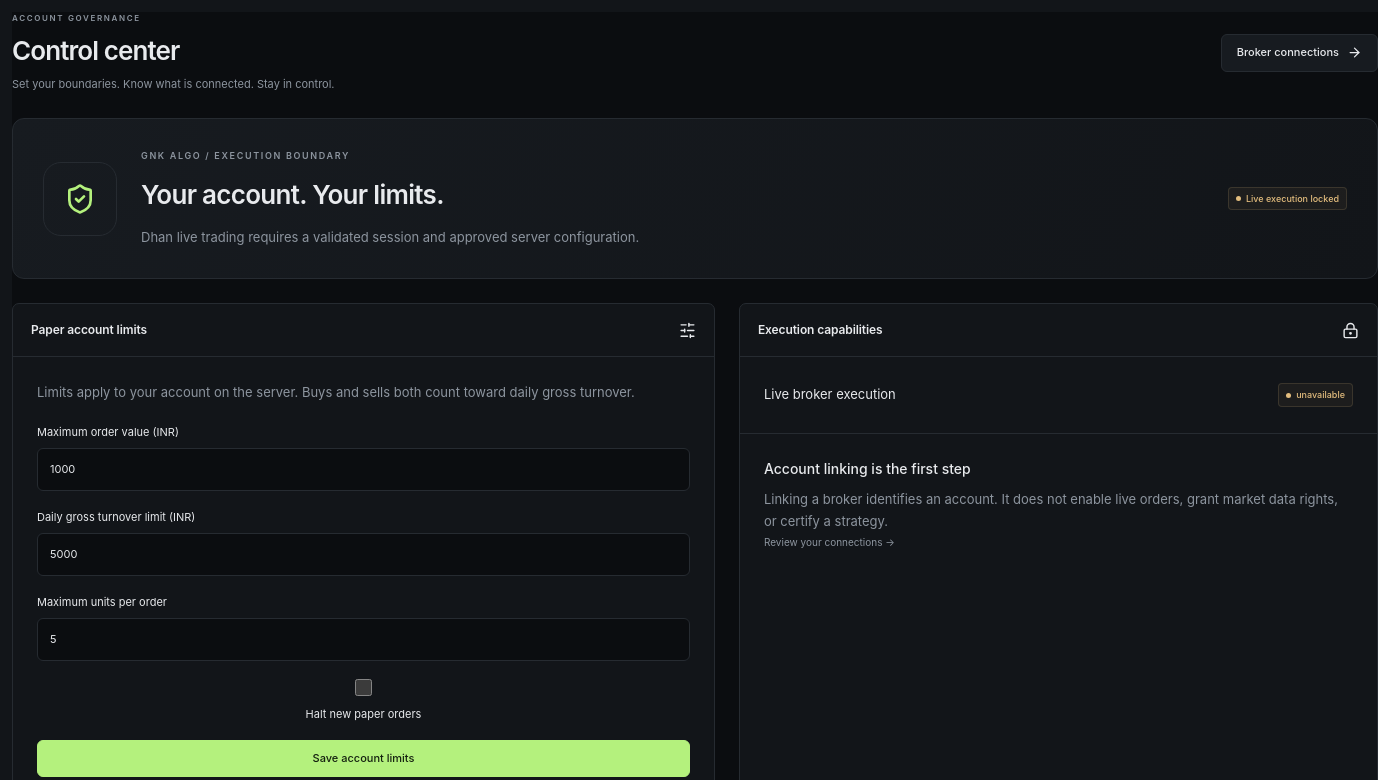
Scenario: saves only policy inputs and shows server acknowledgement
The width and height of the screenshot is (1378, 780).
Click the checkbox labelled "Halt new paper orders" at (364, 687), box left=355, top=679, right=372, bottom=696
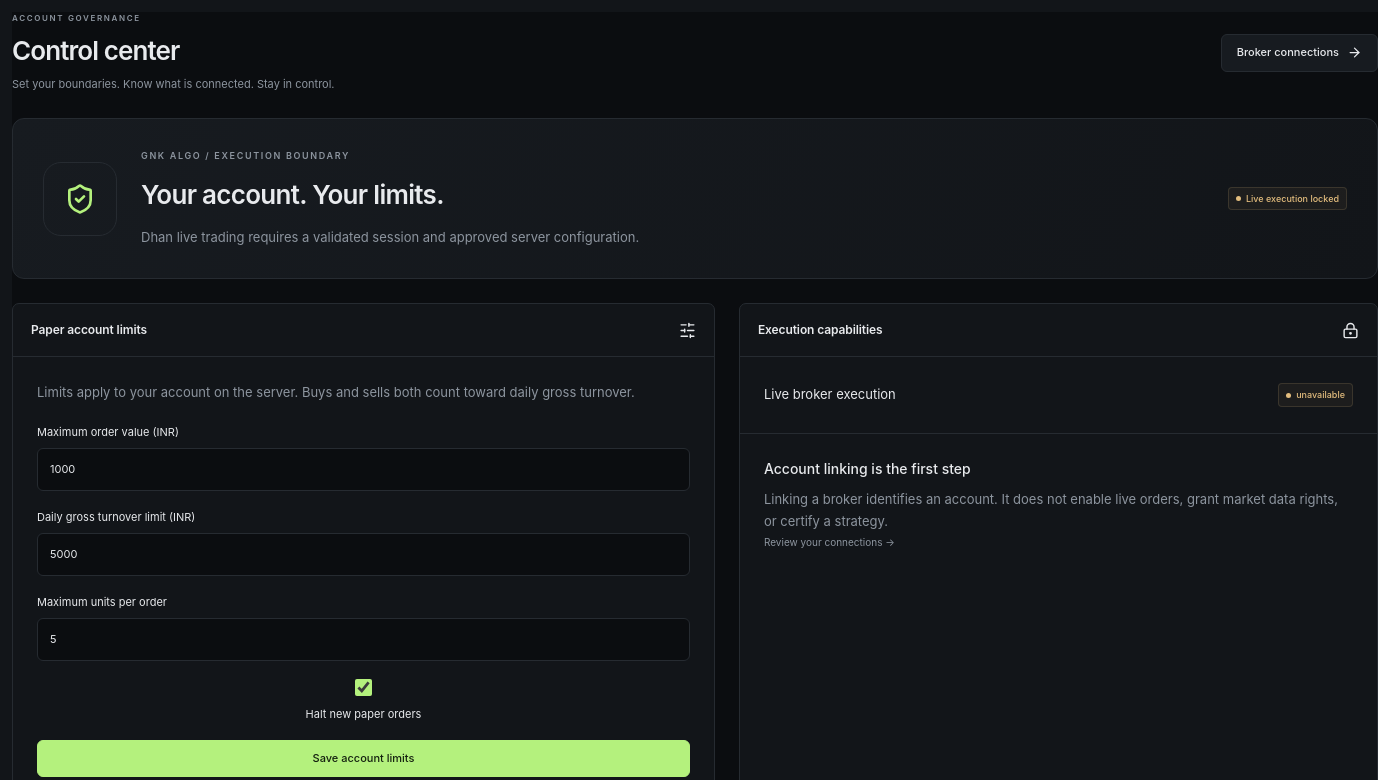
Click the button "Save account limits" at (363, 759), box left=37, top=740, right=690, bottom=778
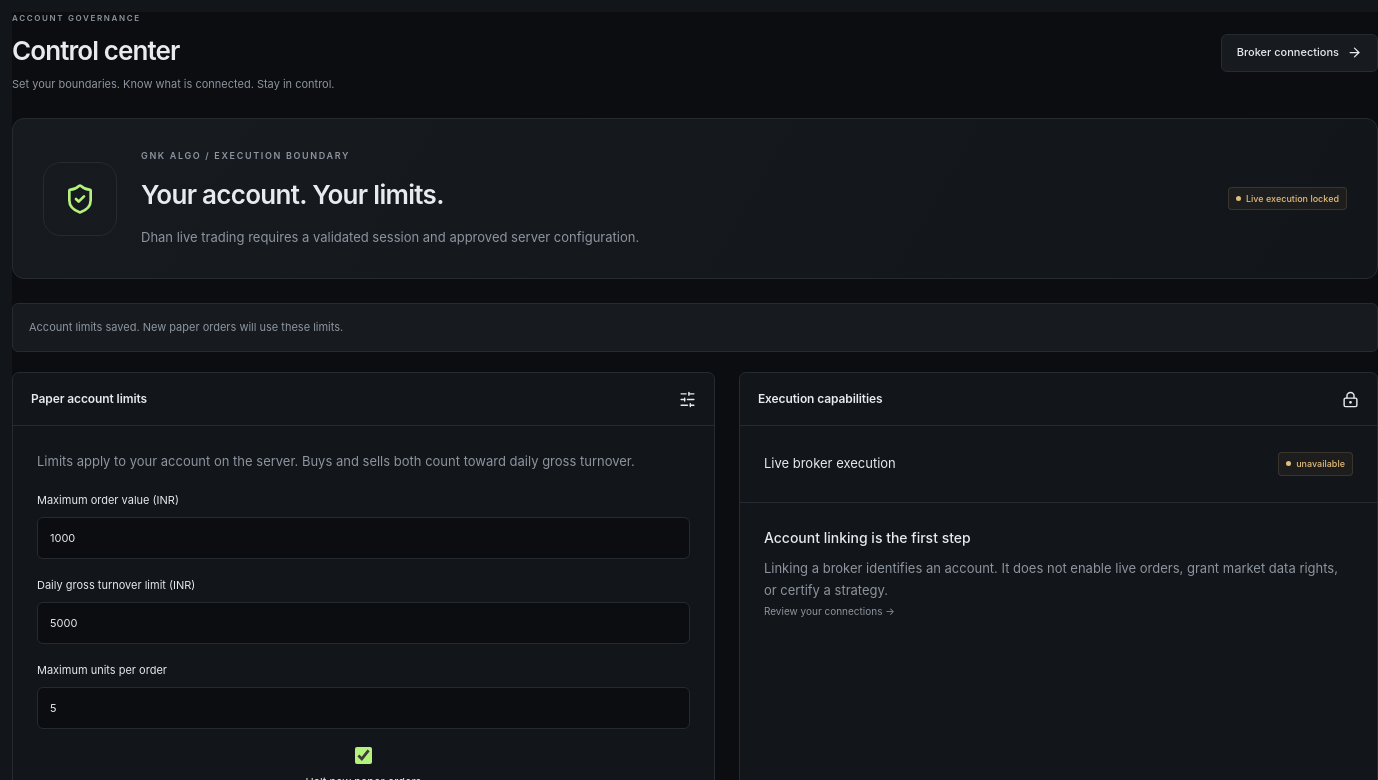
Expected: the text "Live execution locked" is shown, left=1228, top=187, right=1347, bottom=210
Result: the text "Account limits saved. New paper orders will use these limits." is shown at left=12, top=304, right=1377, bottom=352
